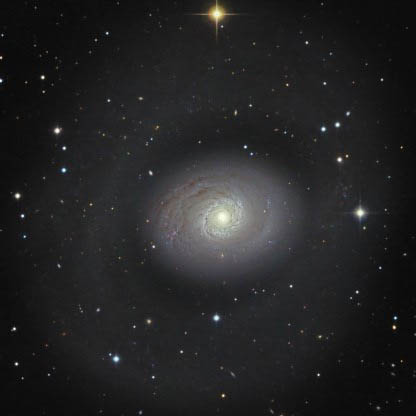Messier 94: (62, 47, 371, 393)
